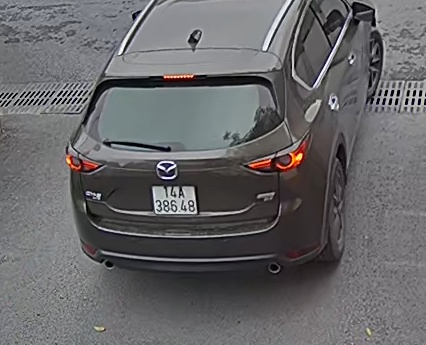vehicle plate: (149, 182, 203, 216)
